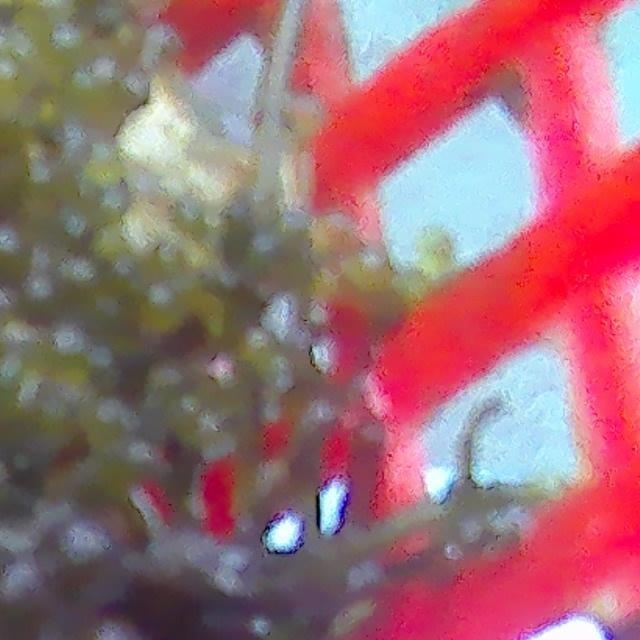SeaGrape: (36, 515, 130, 603), (0, 569, 60, 634), (0, 227, 31, 277)
